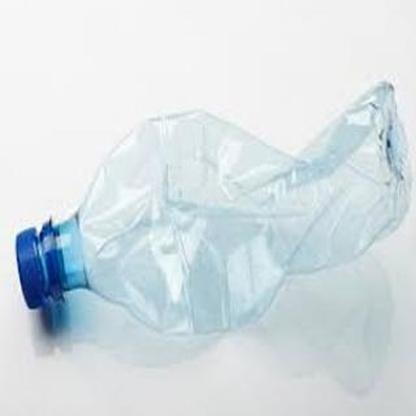plastic bottle: (15, 80, 411, 334)
